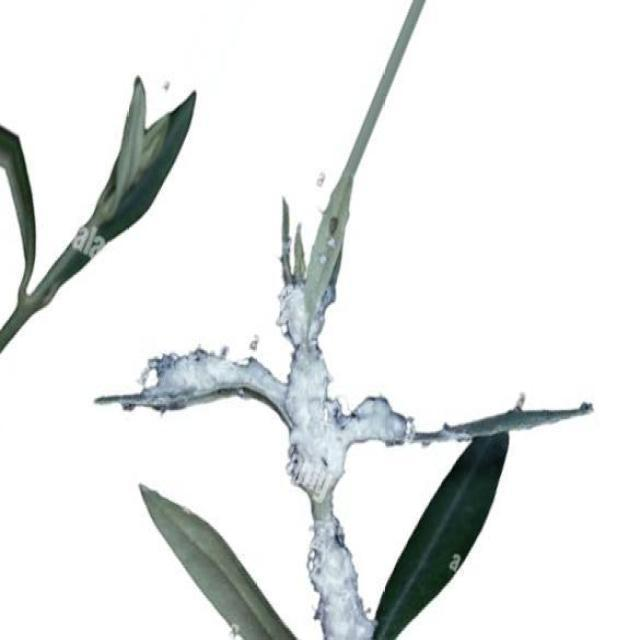Psyllid: (122, 281, 420, 638)
